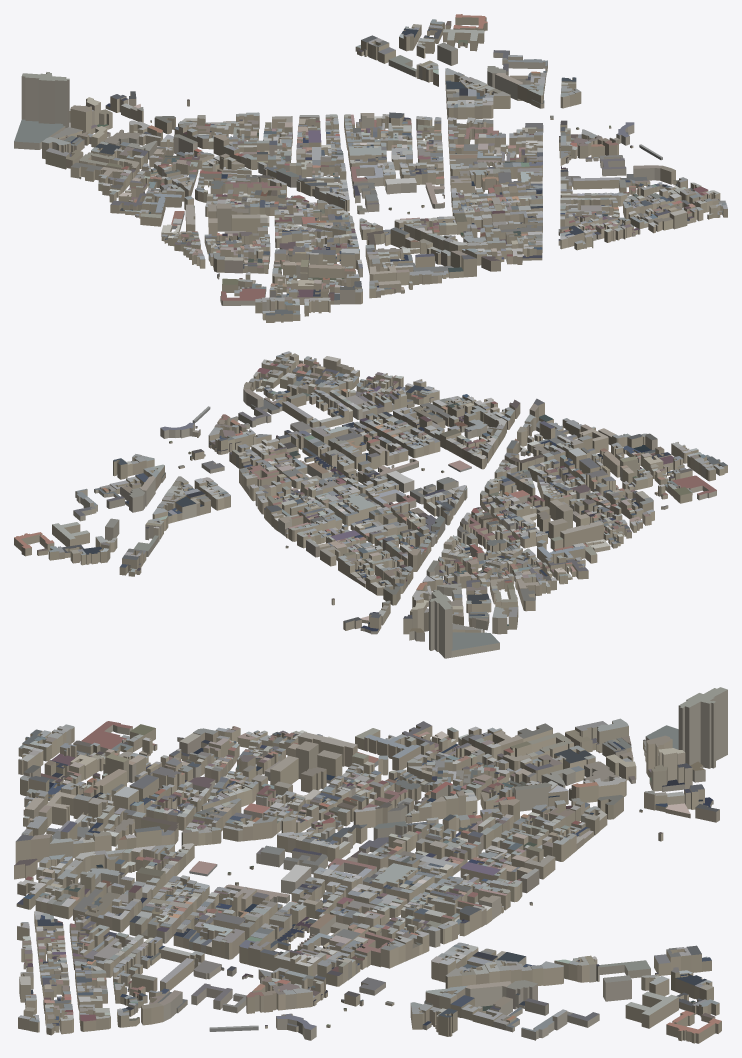
The picture shows the model from 3 angles, top to bottom: view 1: azimuth 30°, elevation 25°; view 2: azimuth 150°, elevation 25°; view 3: azimuth 270°, elevation 25°; orthographic projection. The views are drawn at different scales.
Visible parts, largest first — view 1: tuile; view 2: tuile; view 3: tuile.
Boxes of the visible parts, x1,y1,x2,y2 form: tuile: (14, 14, 727, 322); tuile: (14, 351, 727, 658); tuile: (14, 687, 727, 1043).
Size of the model in its own units: 1075 by 110 by 1042.
